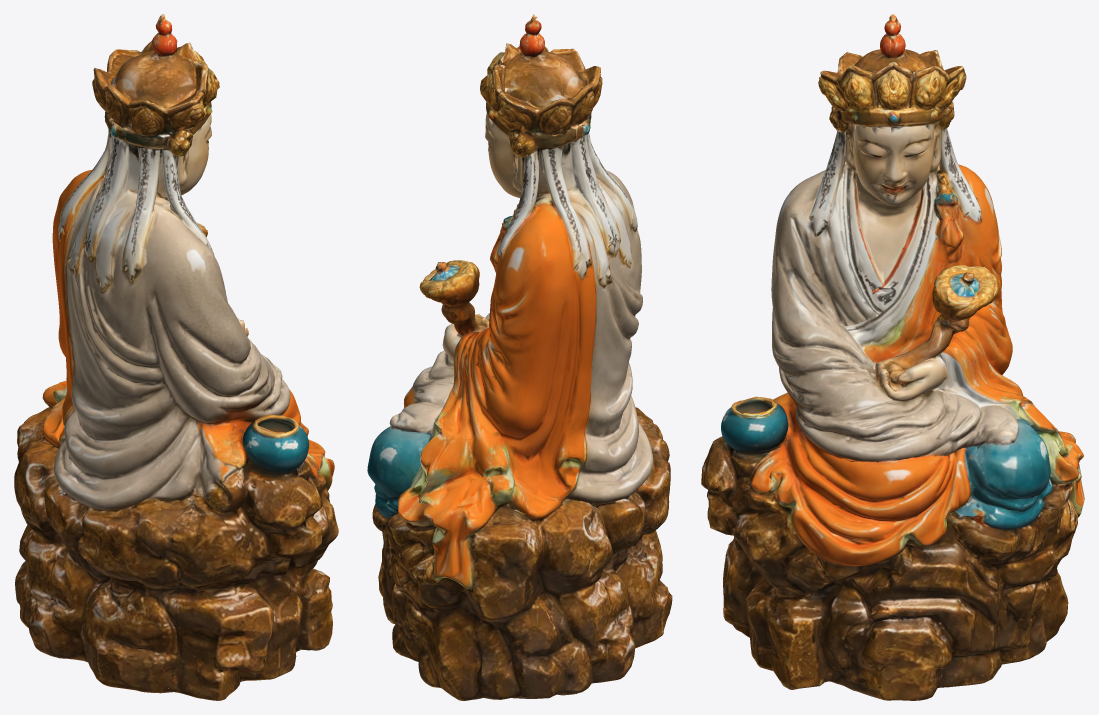
Rendered from speechless-buddha-web-mobile.glb.
3 renders of one model, left to right at view 1: azimuth 30°, elevation 25°; view 2: azimuth 150°, elevation 25°; view 3: azimuth 270°, elevation 25°, orthographic.
Parts seen in each view (by area): view 1: tripo_node_fe233c2f-3267-4b3a-8270-e711cd19128f; view 2: tripo_node_fe233c2f-3267-4b3a-8270-e711cd19128f; view 3: tripo_node_fe233c2f-3267-4b3a-8270-e711cd19128f.
Part boxes in pixels (x1,y1,x2,y2): tripo_node_fe233c2f-3267-4b3a-8270-e711cd19128f: (14, 14, 338, 700); tripo_node_fe233c2f-3267-4b3a-8270-e711cd19128f: (367, 14, 672, 700); tripo_node_fe233c2f-3267-4b3a-8270-e711cd19128f: (701, 14, 1084, 700).
Bounding box in the file's own units: 0.4171 × 0.979 × 0.5447.
1 material, 1 textured.
